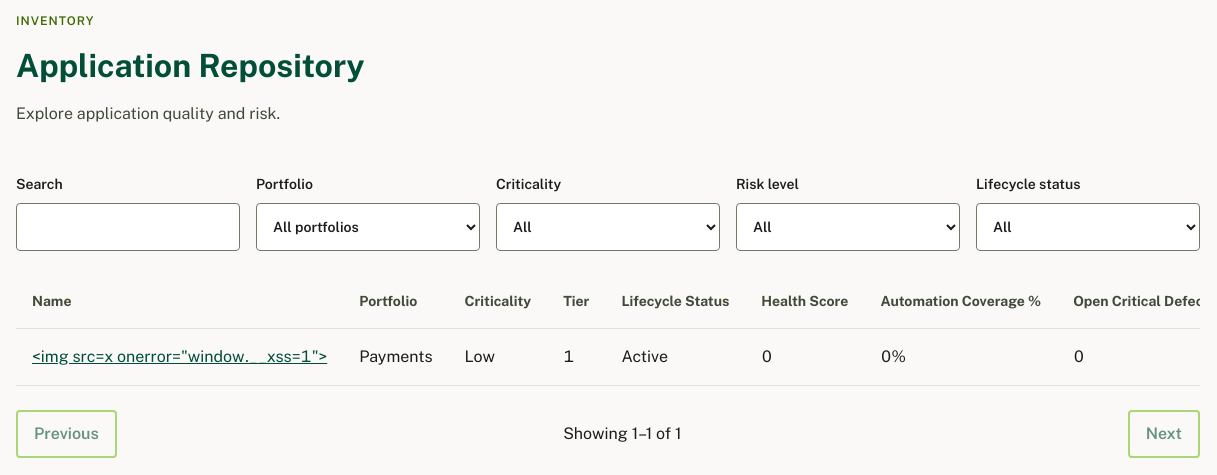
Test case: hides previously loaded inventory when a later filtered query fails and restores it on retry
The image size is (1217, 475).
expect the link "<img src=x onerror=\"window.__xss=1\">" is shown: met, box [32,347,327,366]
Select "High" in the dropdown labelled "Risk level": (848, 227) [736,203,960,251]
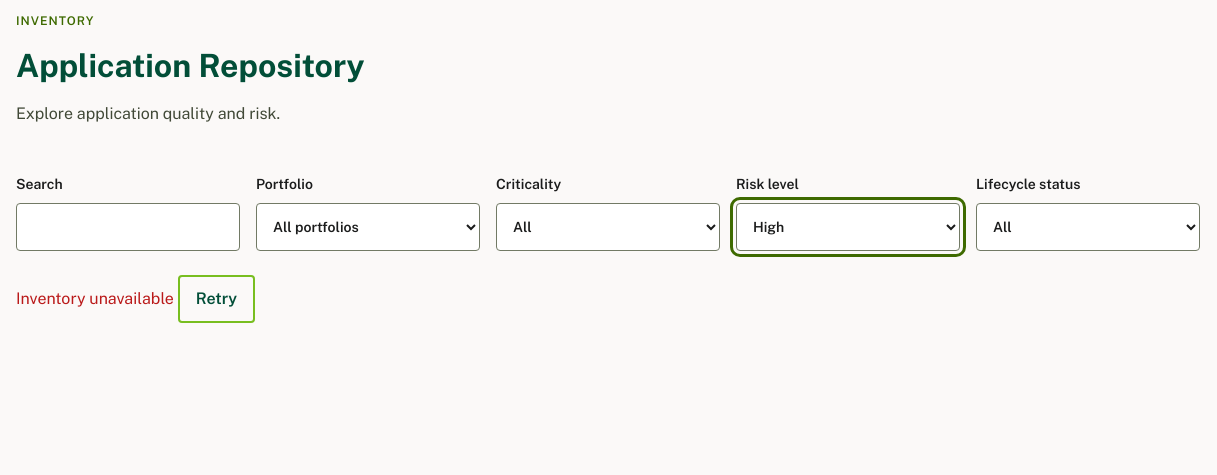
expect the message shows "Inventory unavailable": met, box [16,289,174,308]
expect the link "<img src=x onerror=\"window.__xss=1\">" is gone: met
expect the text "Showing 1–1 of 1" is gone: met
Click the button "Retry": (216, 299) [178,275,255,323]
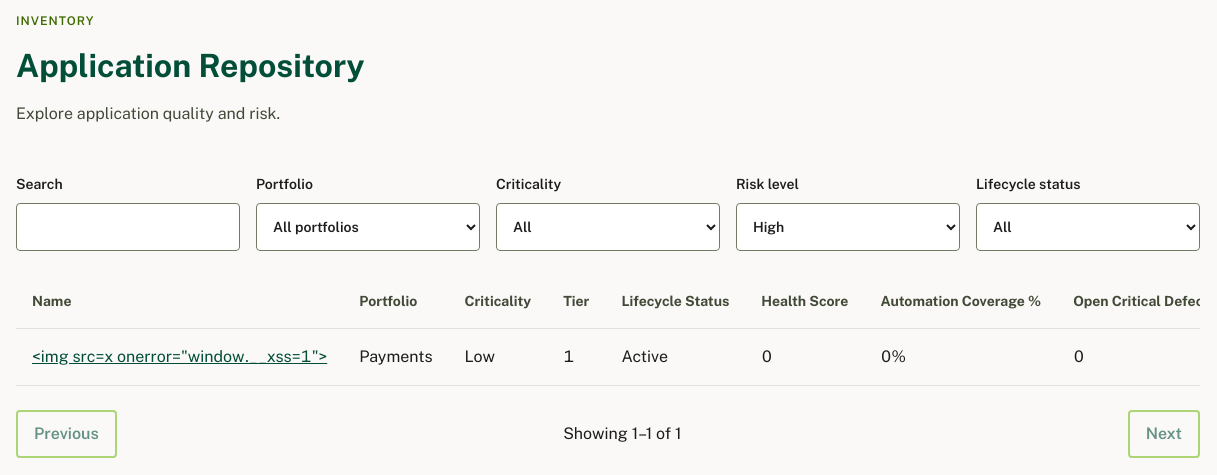
expect the link "<img src=x onerror=\"window.__xss=1\">" is shown: met, box [32,347,327,366]
expect the message "Inventory unavailable Retry" is gone: met
